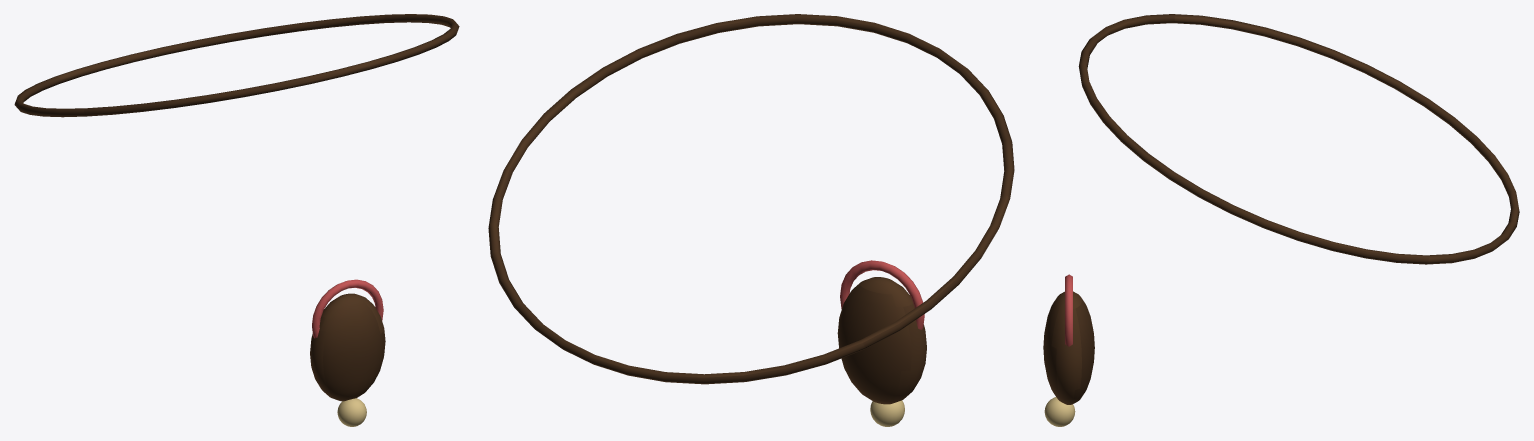
Rendered from acc_charm.glb.
3 renders of one model, left to right at view 1: azimuth 30°, elevation 25°; view 2: azimuth 150°, elevation 25°; view 3: azimuth 270°, elevation 25°, orthographic. The views are drawn at different scales.
Parts seen in each view (by area): view 1: acc_charm; view 2: acc_charm; view 3: acc_charm.
Part boxes in pixels (x1=…): acc_charm: x1=14, y1=14, x2=459, y2=426; acc_charm: x1=488, y1=14, x2=1014, y2=426; acc_charm: x1=1043, y1=14, x2=1519, y2=426.
Size of the model in its own units: 0.153 by 0.1302 by 0.1553.
Materials: 3 (1 with a texture image).
